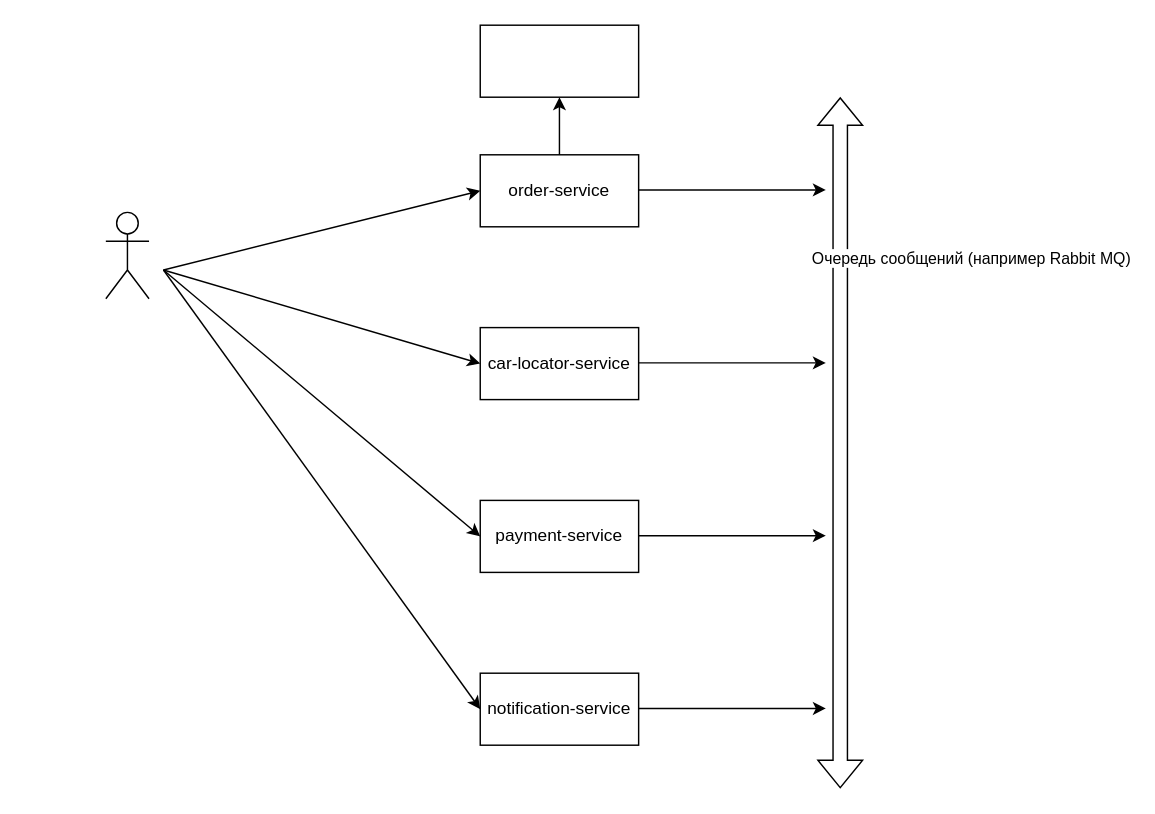
Image size: 1155x814. Some labels were removed from this diagram. The shapes that lost their labels are listed below. From the top down, each one's box as (x1, y1, x2, y2) in pixels, then its label:
(479, 24, 639, 97): route-service
(104, 211, 149, 299): Пользователь (Пассажир или Водитель)
